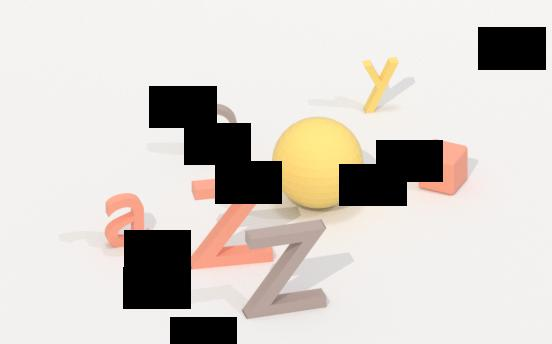Y: (359, 56, 405, 117)
a: (103, 192, 156, 250)
cau: (265, 117, 370, 210)
hop: (414, 136, 473, 198)
q: (185, 102, 244, 159)
z: (182, 174, 277, 270), (236, 223, 333, 317)
